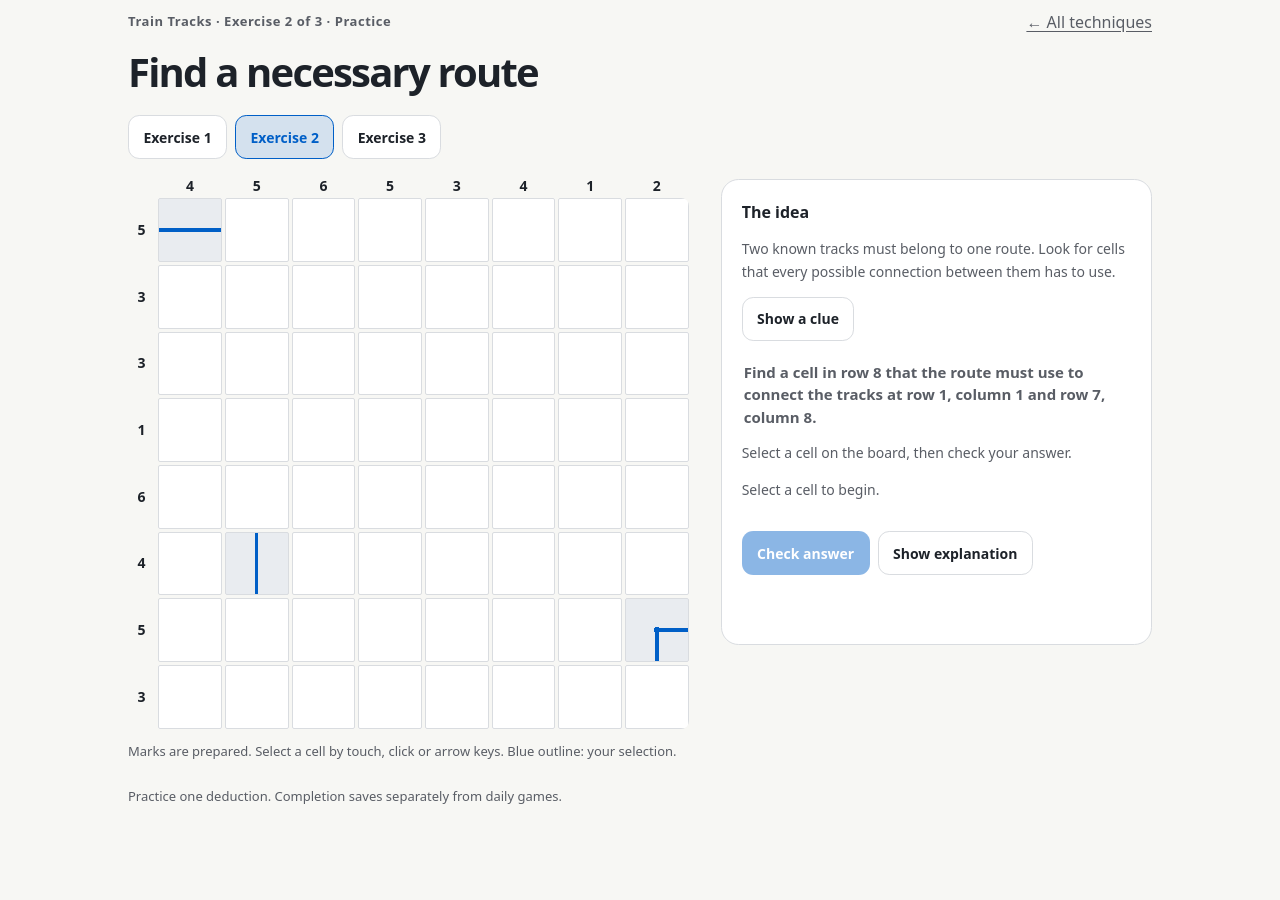
Test: checks a Train Tracks corridor exercise without changing daily progress
Click the cell named "Row 8, column 8, empty, row needs 3, column needs 2".
click(657, 697)  # box x1=625 y1=665 x2=689 y2=729
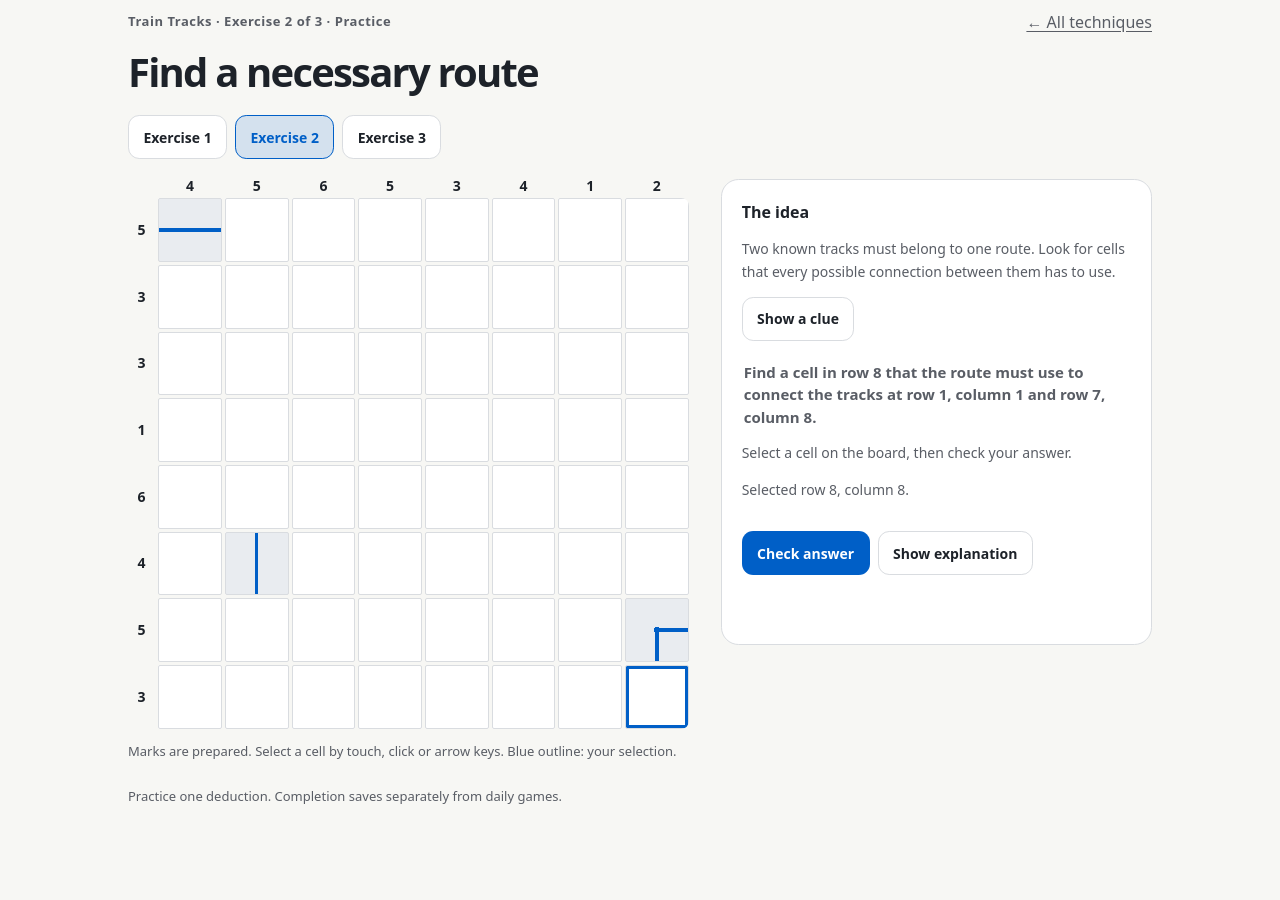
Click the button "Check answer".
click(806, 553)  # box x1=742 y1=531 x2=870 y2=575
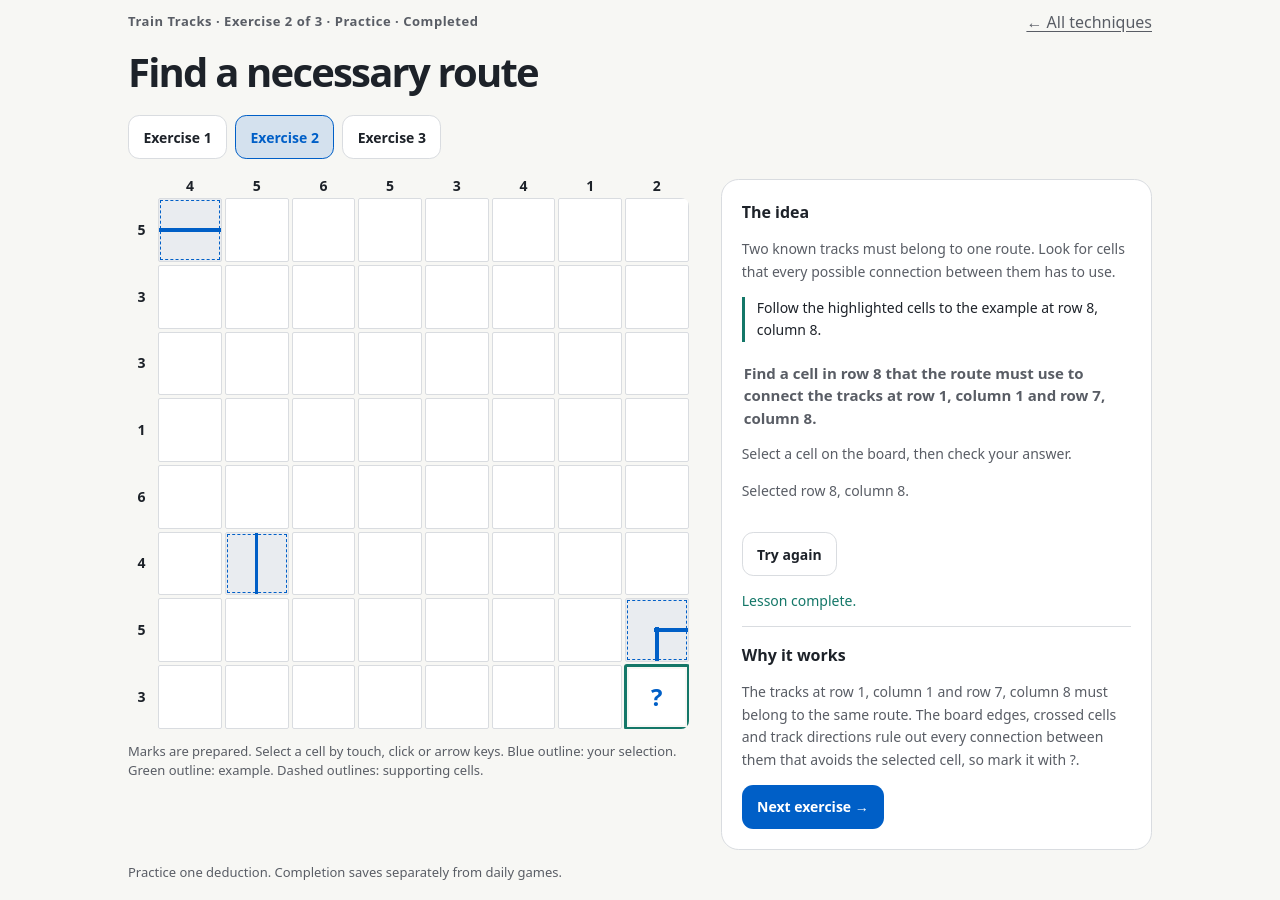
Check: the message "Lesson complete." is shown, box x1=742 y1=591 x2=856 y2=610
